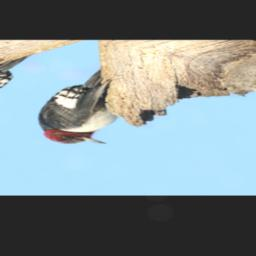Woodpecker: (5, 67, 182, 150)
